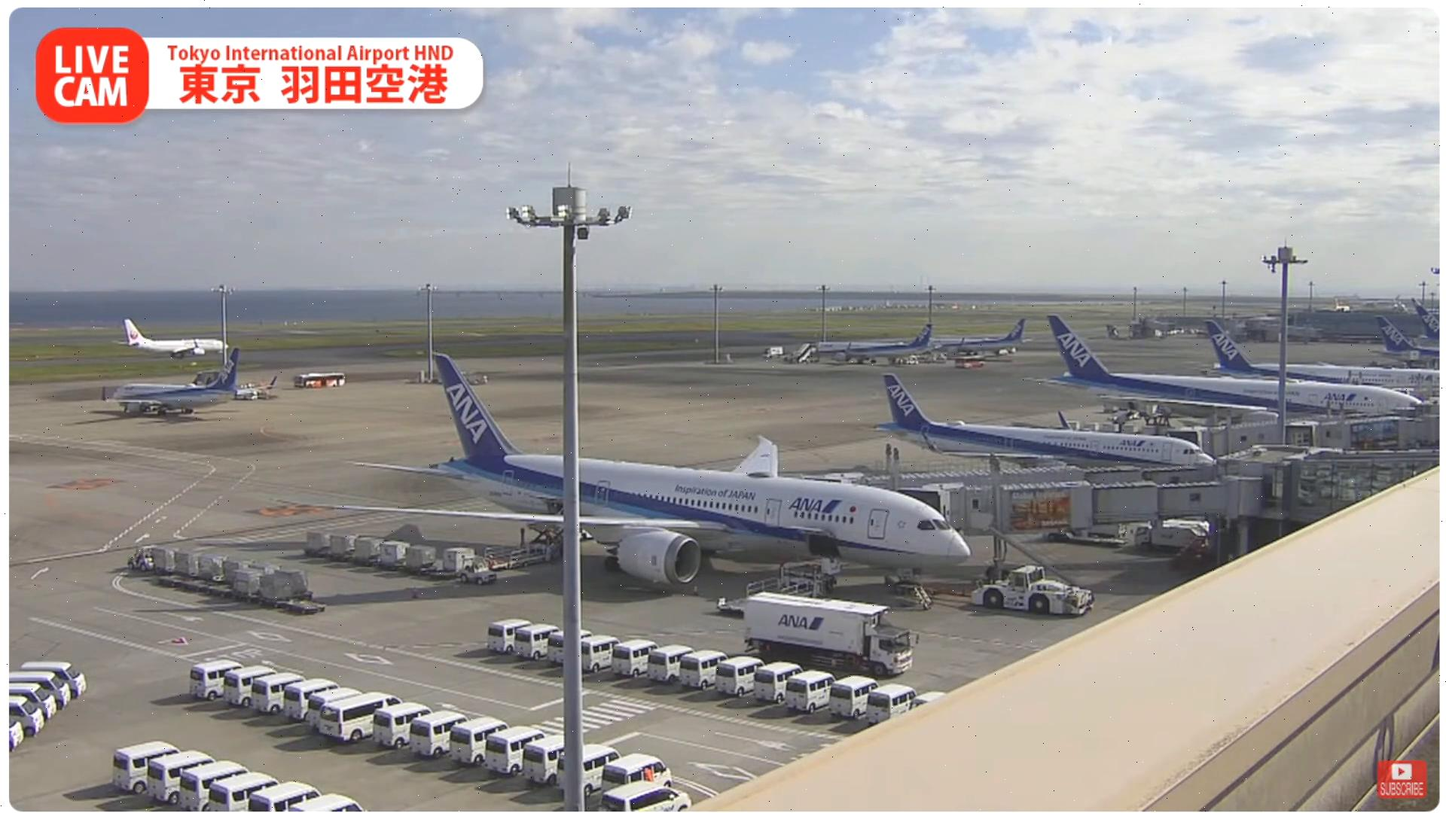APS: (969, 564, 1106, 619)
Aerobridge: (896, 476, 1261, 541), (843, 457, 1217, 496)
Airplane: (330, 354, 973, 599)
Catering: (737, 587, 935, 676)
Dolly: (153, 545, 319, 601), (301, 529, 474, 579), (159, 569, 329, 616)
JCPL: (714, 553, 842, 618), (452, 517, 566, 574)
Tractor: (462, 556, 498, 585), (125, 544, 156, 572)
Window: (1290, 456, 1440, 523)
